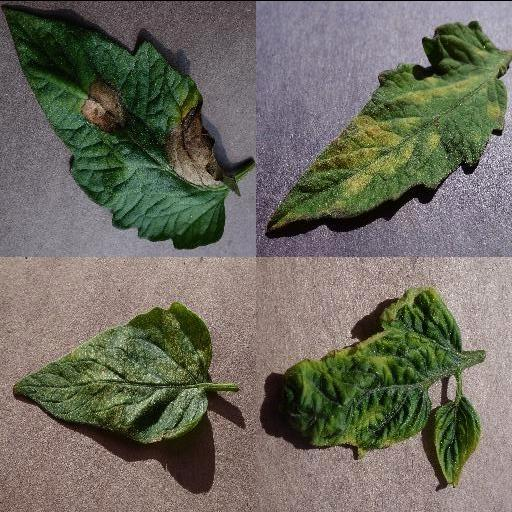Late Blight: (2, 5, 238, 249)
Leaf Mold: (265, 18, 507, 229)
Spider Mites: (14, 303, 214, 441)
Yellow Leaf Curl Virus: (282, 289, 462, 457), (433, 398, 479, 486)
